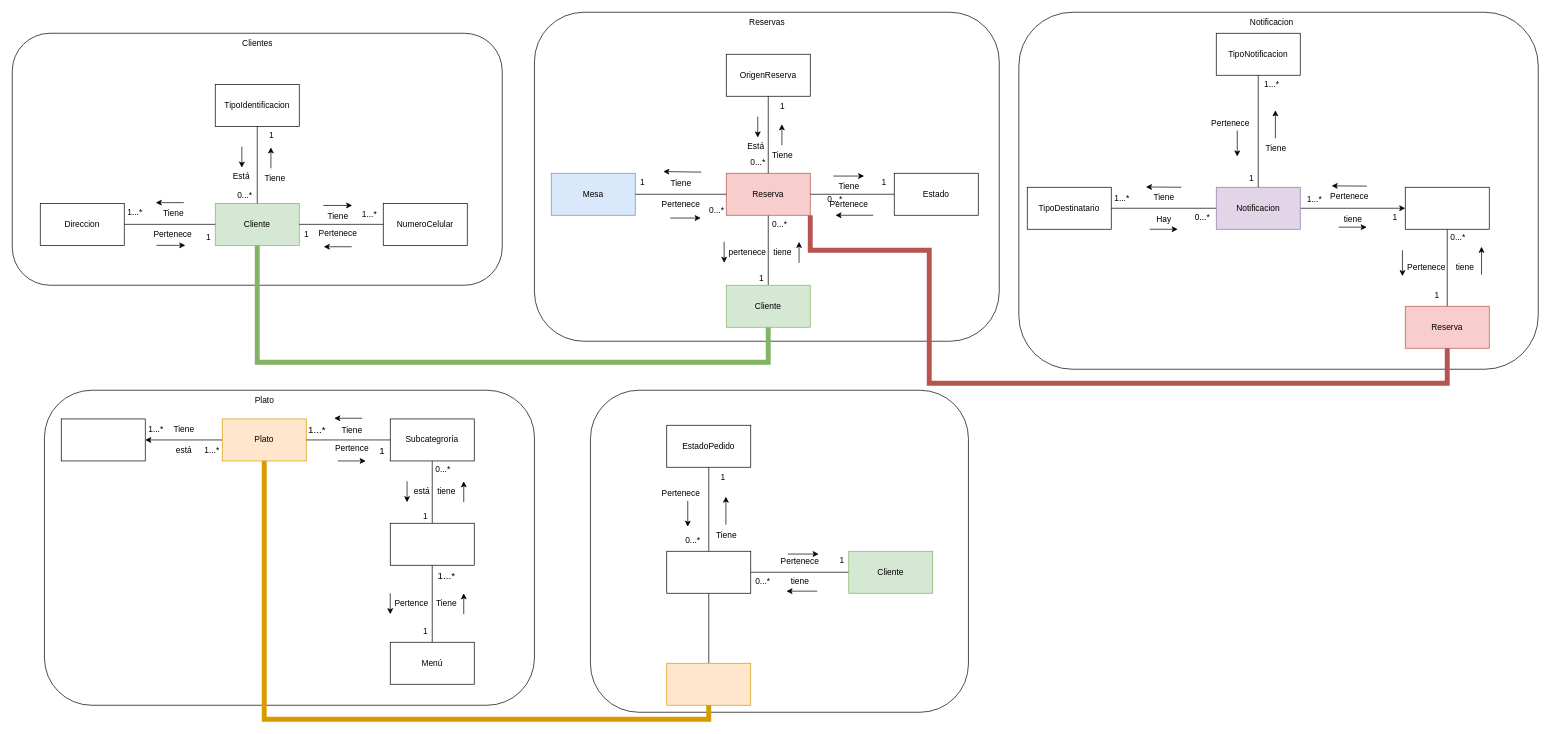
The diagram is 1551 pixels wide and 734 high, and some of its shapes have lost their labels. The shapes that lost their labels are listed below. From the top down, each one's centre as x and y in pixels, then its label:
(x=1447, y=208): DetalleReserva
(x=103, y=439): Ingrediente
(x=432, y=544): Categoría
(x=708, y=572): Pedido
(x=708, y=684): DetallePlato
